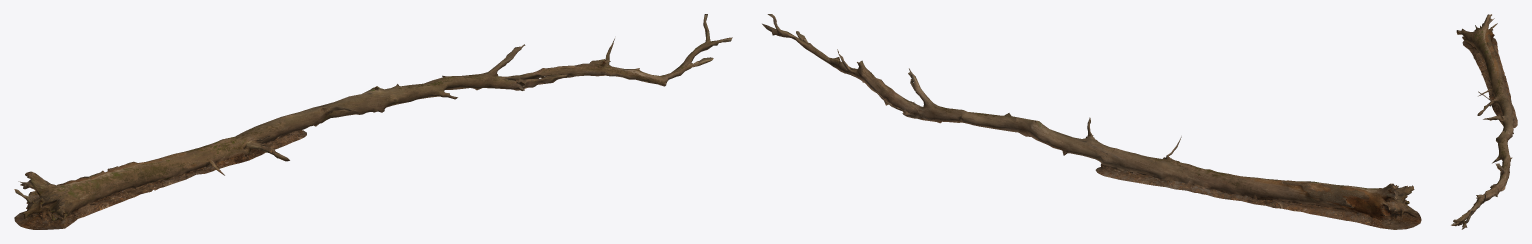
The model's file is LargeFallenTree.fbx.
3 renders of one model, left to right at view 1: azimuth 30°, elevation 25°; view 2: azimuth 150°, elevation 25°; view 3: azimuth 270°, elevation 25°, orthographic. The views are drawn at different scales.
Parts seen in each view (by area): view 1: wd1mbcvbw_LOD0_TIER2_000; view 2: wd1mbcvbw_LOD0_TIER2_000; view 3: wd1mbcvbw_LOD0_TIER2_000.
Boxes of the visible parts, x1,y1,x2,y2 form: wd1mbcvbw_LOD0_TIER2_000: (14, 14, 732, 229); wd1mbcvbw_LOD0_TIER2_000: (762, 14, 1421, 229); wd1mbcvbw_LOD0_TIER2_000: (1451, 14, 1517, 229).
Size of the model in its own units: 99.35 by 6.72 by 13.39.
